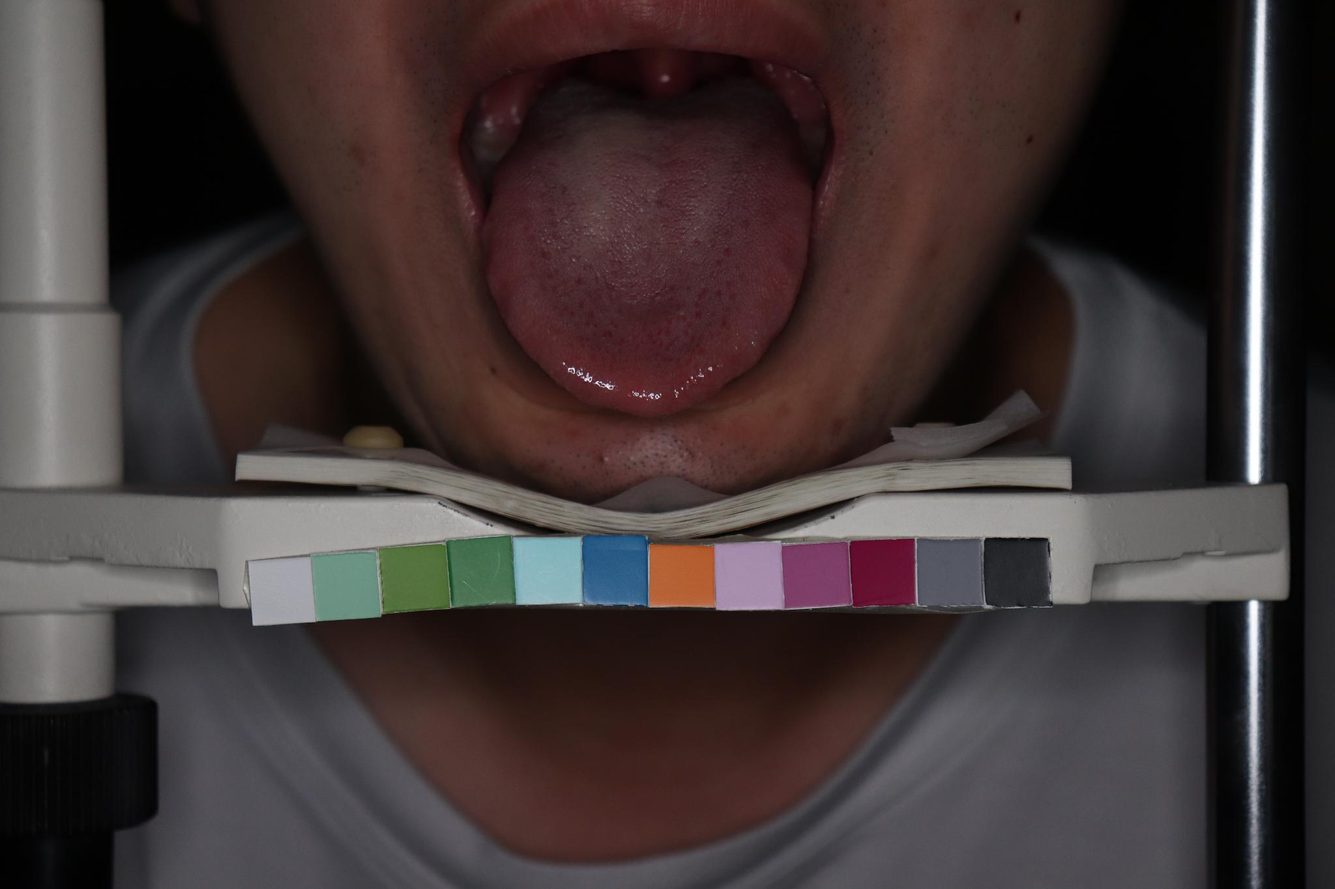baitaishe: (481, 73, 812, 417)
hongdianshe: (721, 246, 733, 258)
shenquao: (572, 73, 740, 120)
